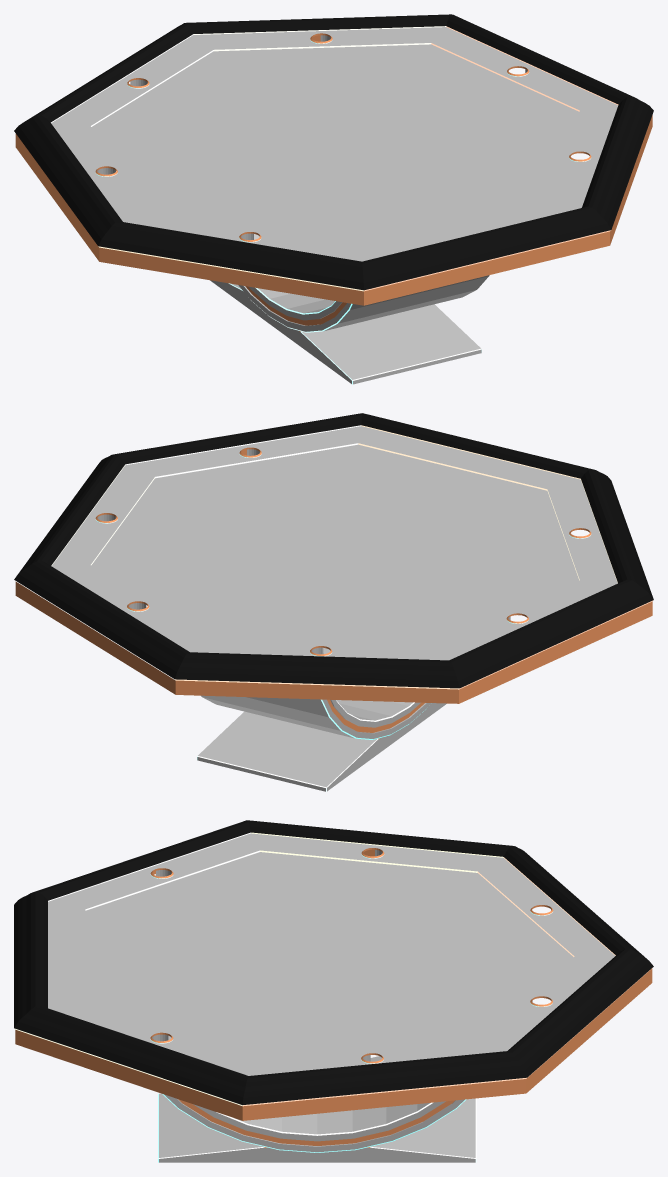
Rendered from mesa-poker.glb.
The picture shows the model from 3 angles, top to bottom: view 1: azimuth 30°, elevation 25°; view 2: azimuth 150°, elevation 25°; view 3: azimuth 270°, elevation 25°; orthographic projection. The views are drawn at different scales.
Visible parts, largest first — view 1: EDi17, EDi00, EDi01, EDi02, EDi81, EDi19, EDi82, EDi18, EDi83, EDi48, EDi80; view 2: EDi17, EDi00, EDi01, EDi02, EDi81, EDi19, EDi82, EDi18, EDi83, EDi48, EDi80; view 3: EDi17, EDi00, EDi02, EDi01, EDi81, EDi19, EDi82, EDi18, EDi80, EDi83, EDi48.
Boxes of the visible parts, x1,y1,x2,y2 form: EDi17: (91,44,579,247); EDi00: (14,14,653,290); EDi01: (51,27,617,261); EDi02: (51,27,617,261); EDi81: (210,276,488,384); EDi19: (15,35,652,305); EDi82: (238,234,489,331); EDi18: (51,26,618,291); EDi83: (228,283,481,384); EDi48: (95,33,591,241); EDi80: (245,286,346,331); EDi17: (91,444,579,648); EDi00: (14,413,653,688); EDi01: (53,426,617,660); EDi02: (51,426,613,660); EDi81: (197,648,446,791); EDi19: (15,449,652,703); EDi82: (203,647,431,738); EDi18: (14,425,652,689); EDi83: (197,699,425,791); EDi48: (95,447,591,655); EDi80: (327,699,425,738); EDi17: (85,852,573,1062); EDi00: (14,820,653,1105); EDi02: (48,833,614,1075); EDi01: (48,833,614,1075); EDi81: (159,1036,475,1162); EDi19: (15,849,652,1120); EDi82: (164,1036,464,1152); EDi18: (14,832,651,1106); EDi80: (178,1099,454,1147); EDi83: (158,1094,476,1162); EDi48: (150,848,553,1063).
Bounding box in the file's own units: 3.19 × 0.9709 × 3.11.
